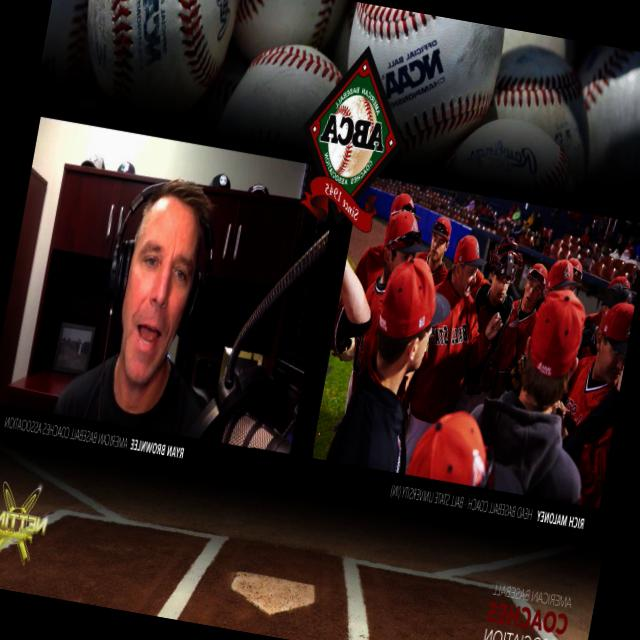ball: (314, 80, 395, 183)
